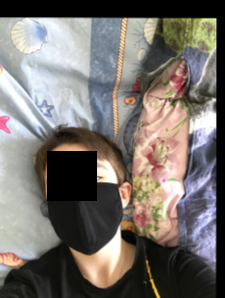with_mask: (44, 154, 123, 256)
